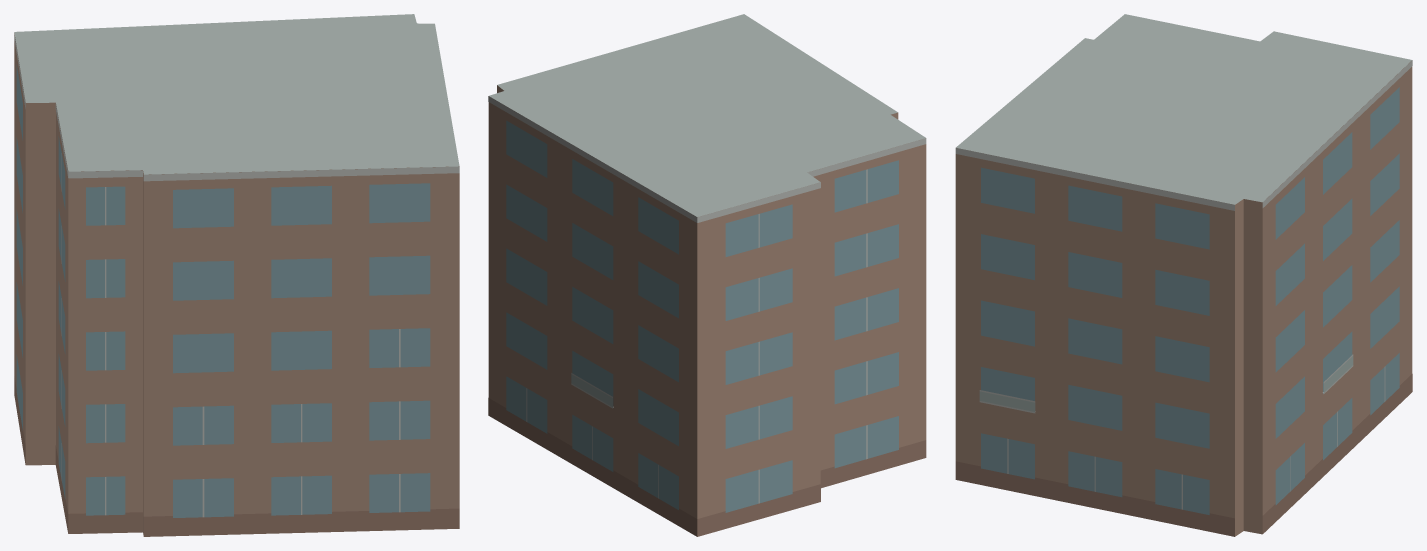
The model's file is survey-upis-32512156.glb.
The picture shows the model from 3 angles, left to right: view 1: azimuth 30°, elevation 25°; view 2: azimuth 150°, elevation 25°; view 3: azimuth 270°, elevation 25°; orthographic projection. The views are drawn at different scales.
Visible parts, largest first — view 1: survey-upis-32512156.tmp; view 2: survey-upis-32512156.tmp; view 3: survey-upis-32512156.tmp.
Boxes of the visible parts, x1,y1,x2,y2 form: survey-upis-32512156.tmp: (14, 14, 459, 536); survey-upis-32512156.tmp: (488, 14, 926, 536); survey-upis-32512156.tmp: (955, 14, 1412, 536).
Bounding box in the file's own units: 16.15 × 13.1 × 16.34.
